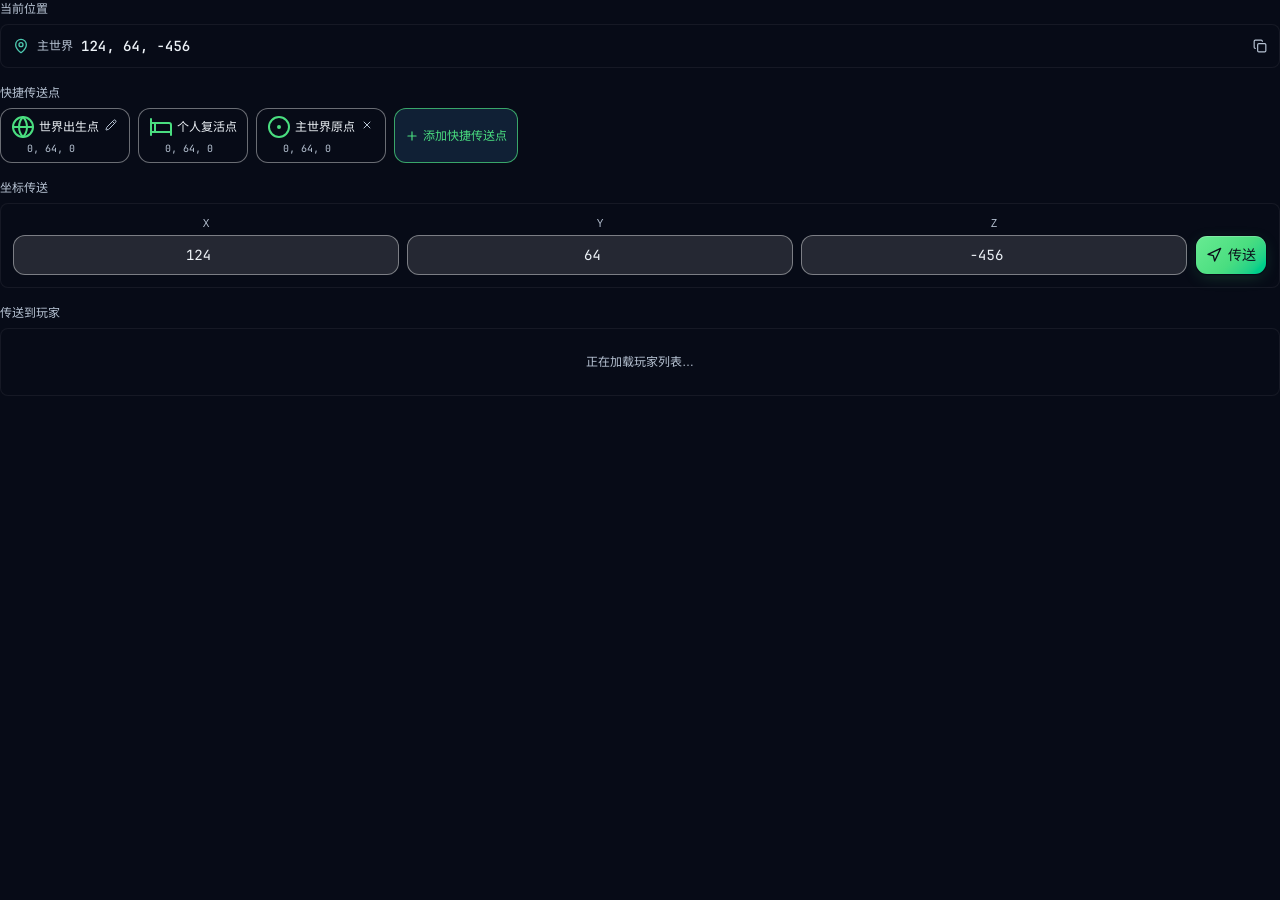
TeleportTab › 编辑世界出生点：两步确认后发送 setworldspawn
Click the button named "编辑世界出生点". click: x=111, y=125
box: [103,117,119,133]
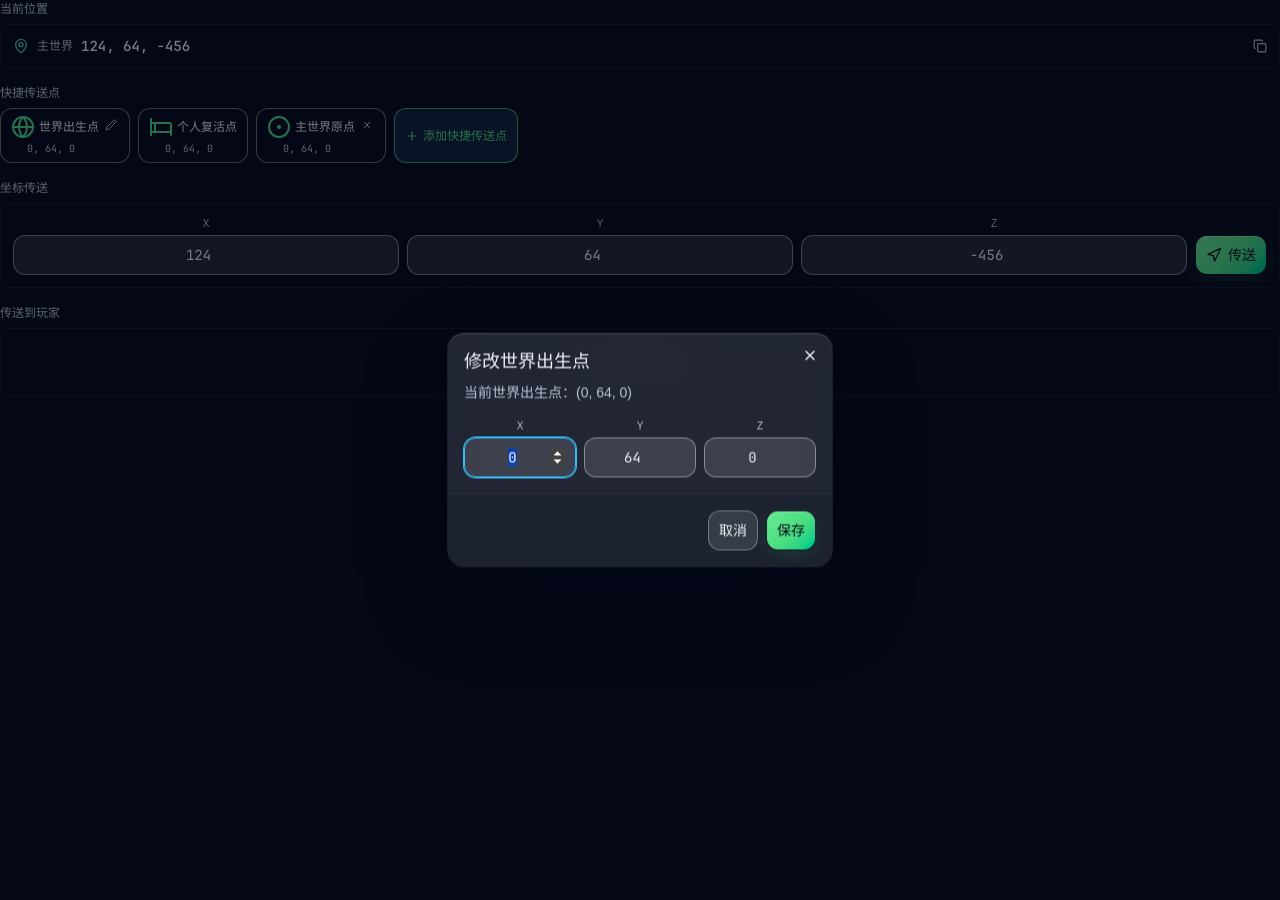
Replace the text in the number field named "X" with "5". click: x=520, y=458
box: [464,438,576,478]
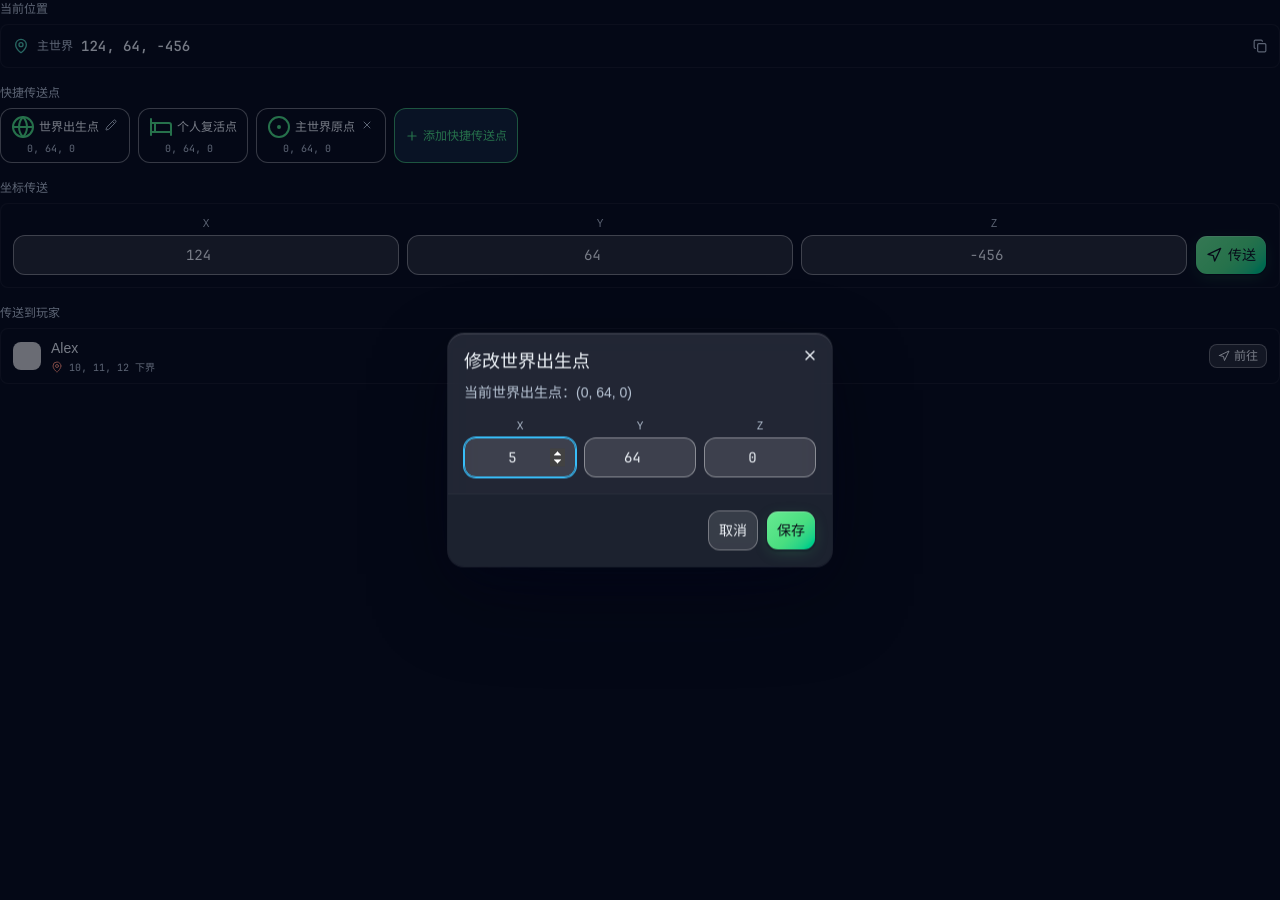
Click the button "保存". click: x=791, y=531
box: [766,511,816,551]
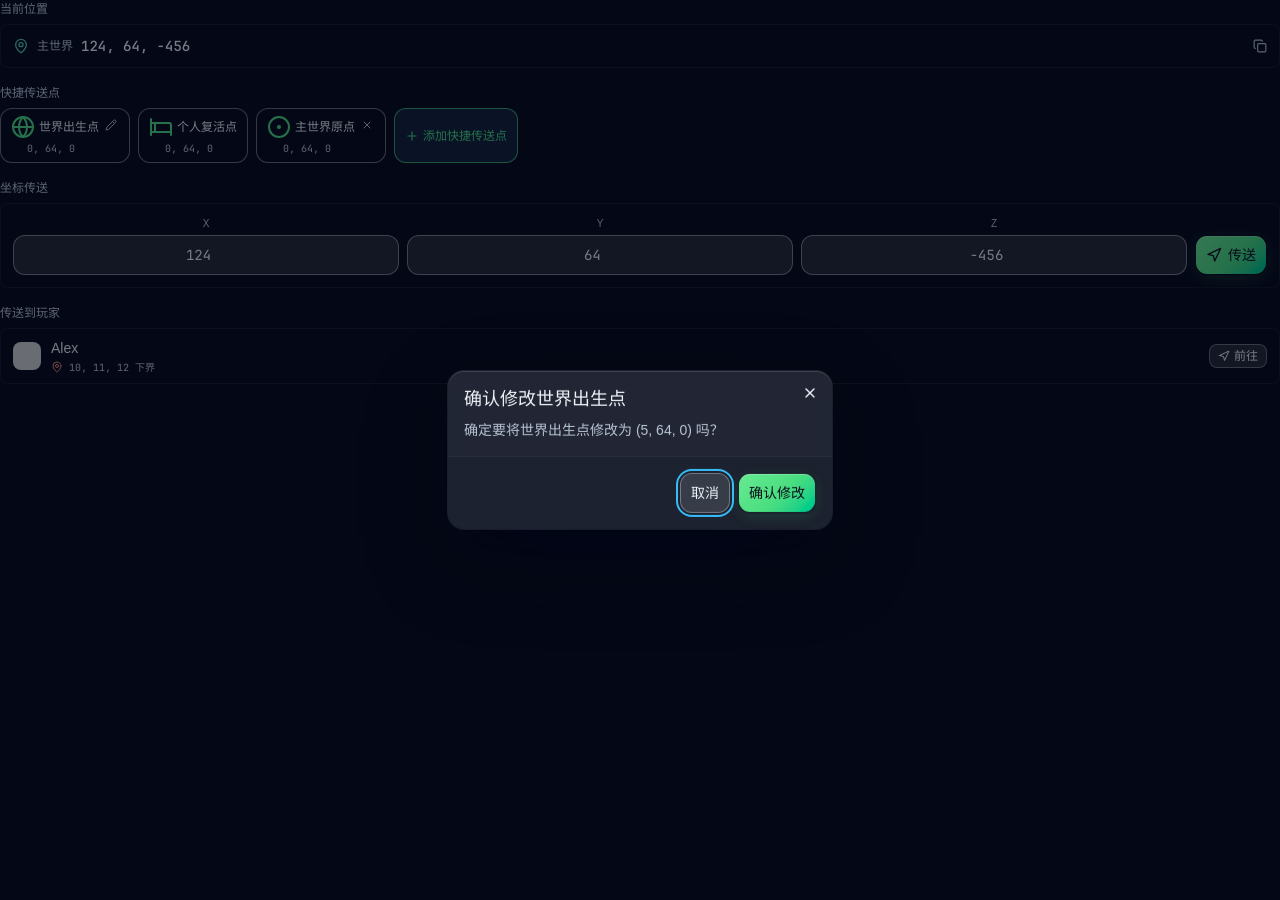
Now the text "确定要将世界出生点修改为 (5, 64, 0) 吗？" is shown, box [464,422,724,438]
Click the button "确认修改". click: x=777, y=493
box: [738,473,816,513]
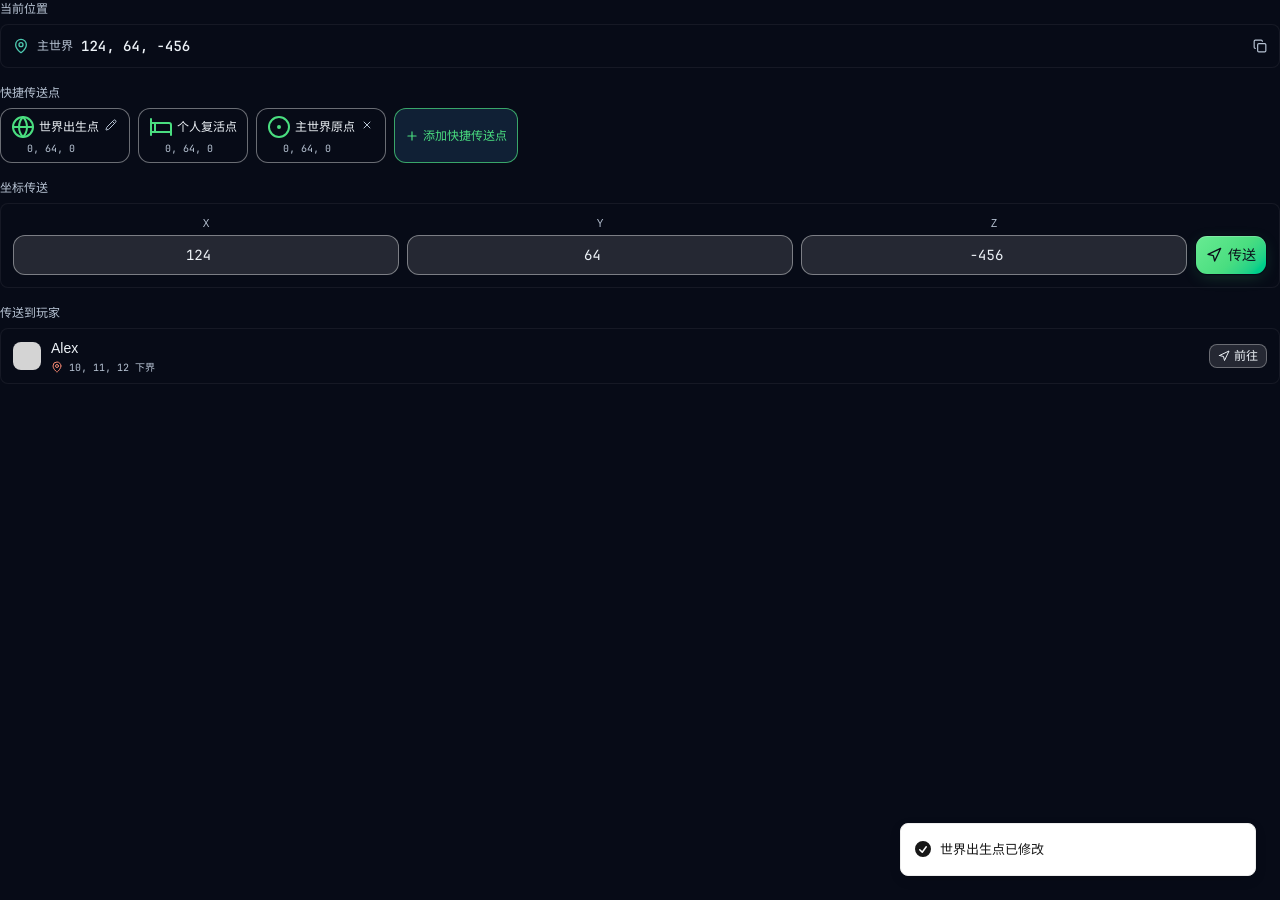
Now the text "世界出生点已修改" is shown, box [940,840,1044,859]
